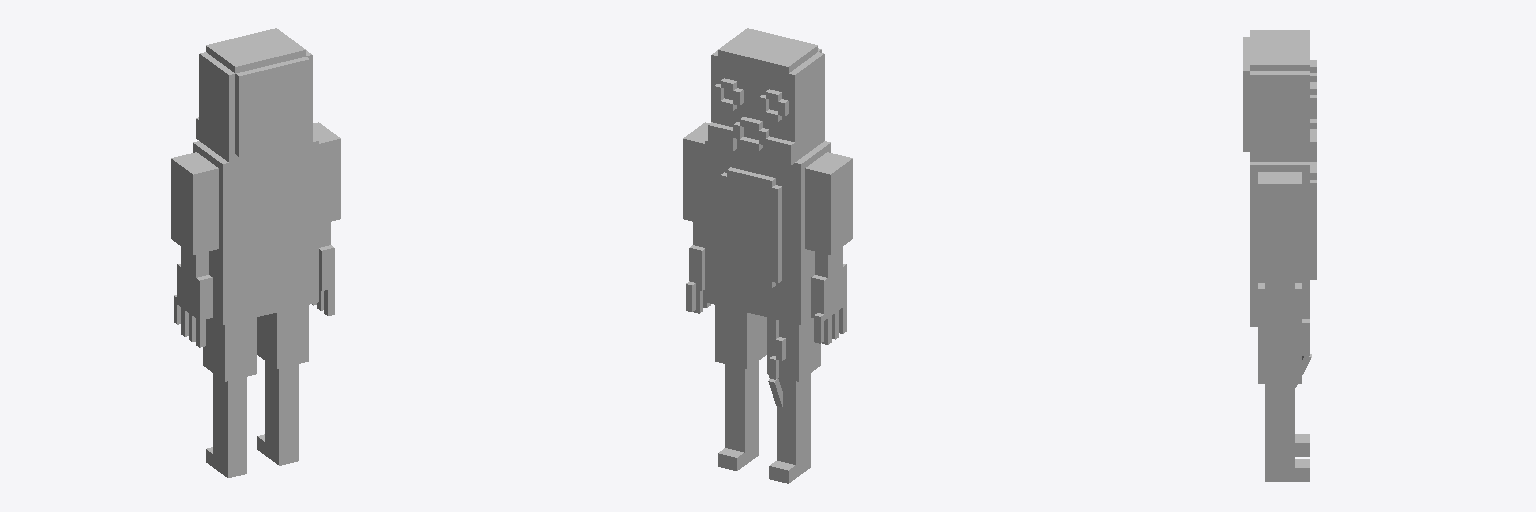
Rendered from RobotJP.obj.
3 views of the same model, side by side, from view 1: azimuth 30°, elevation 25°; view 2: azimuth 150°, elevation 25°; view 3: azimuth 270°, elevation 25° (orthographic).
Visible parts, largest first — view 1: cube; view 2: cube; view 3: cube.
Part boxes in pixels (x1,y1,x2,y2): cube: (171, 28, 340, 477); cube: (683, 28, 852, 483); cube: (1243, 30, 1316, 481).
Bounding box in the file's own units: 1.44 × 3.88 × 0.625.